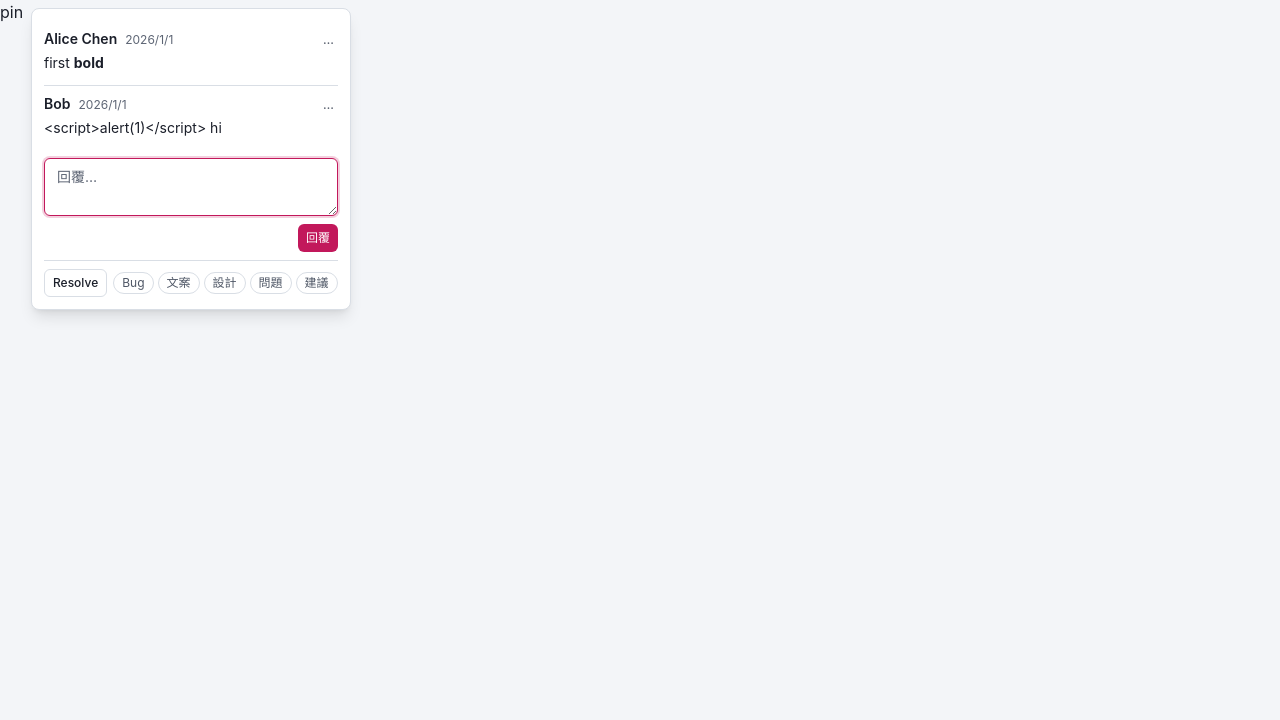
Test: ThreadPopover › Esc inside the … menu only closes the menu
Click the button named "留言選項". click: (329,40)
box: [319,32,338,48]
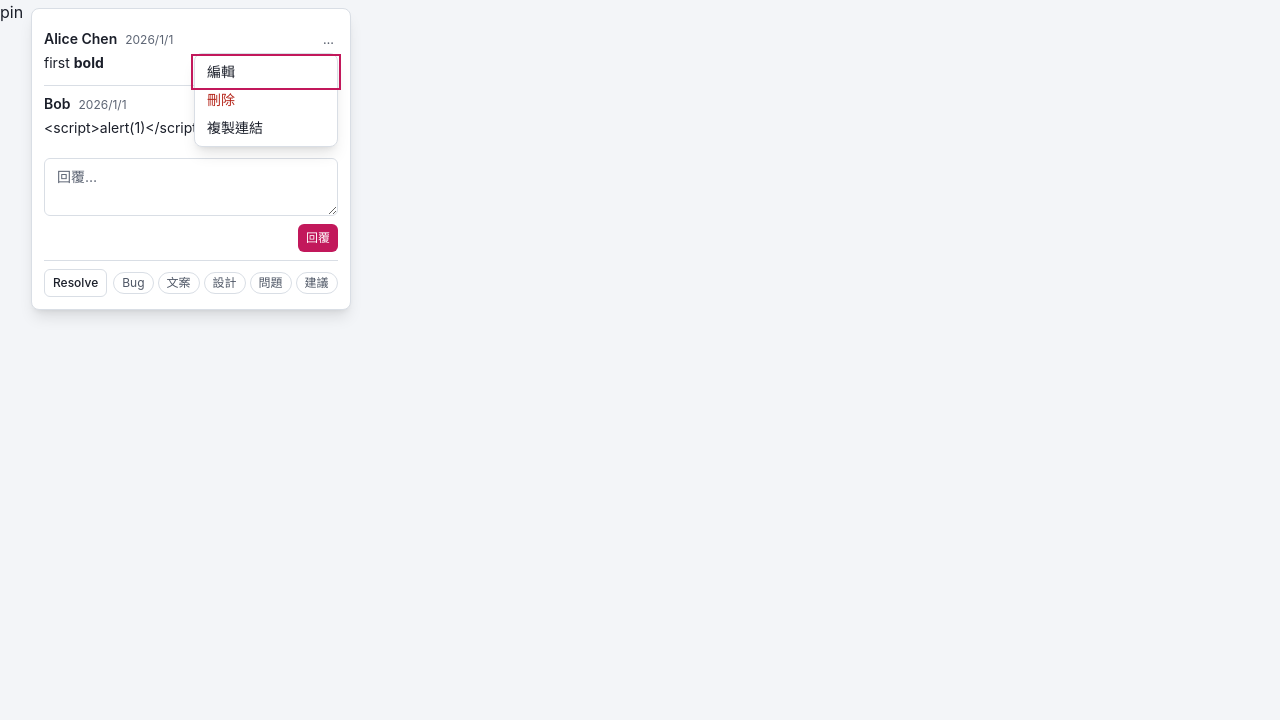
Check: the menu is shown, box [194,53,338,147]
Press Escape
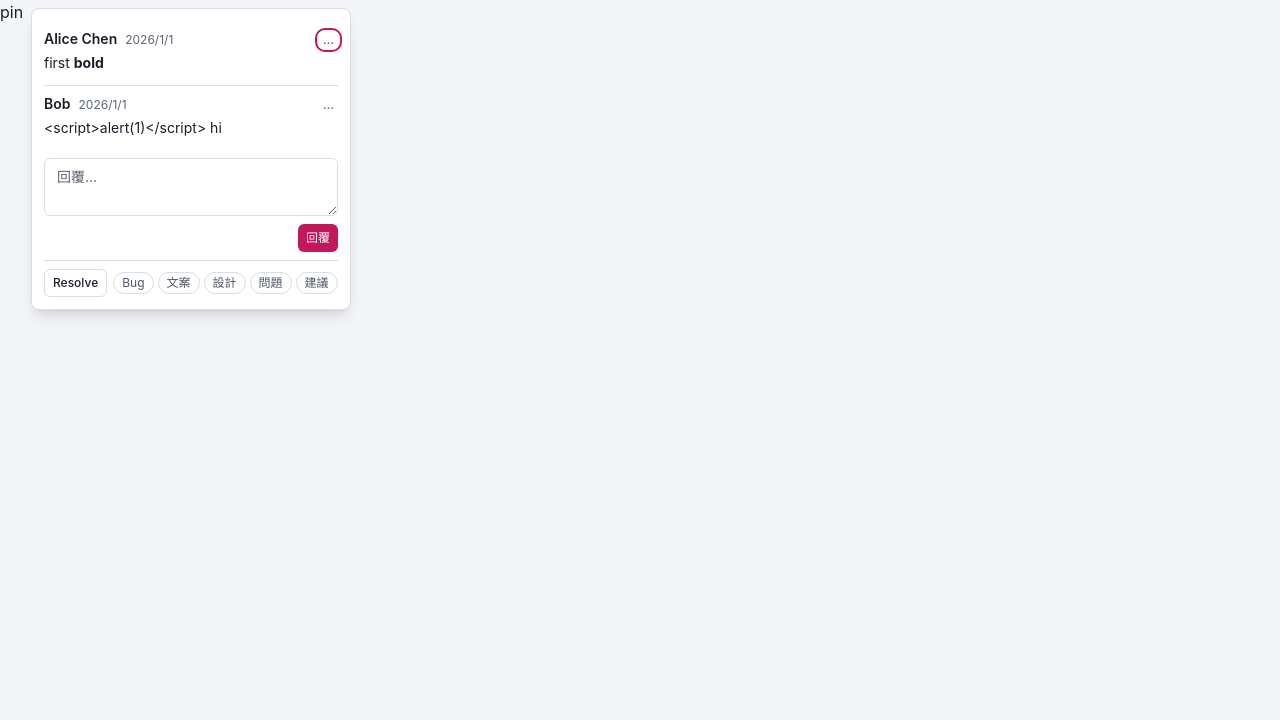
Check: the menu is gone
